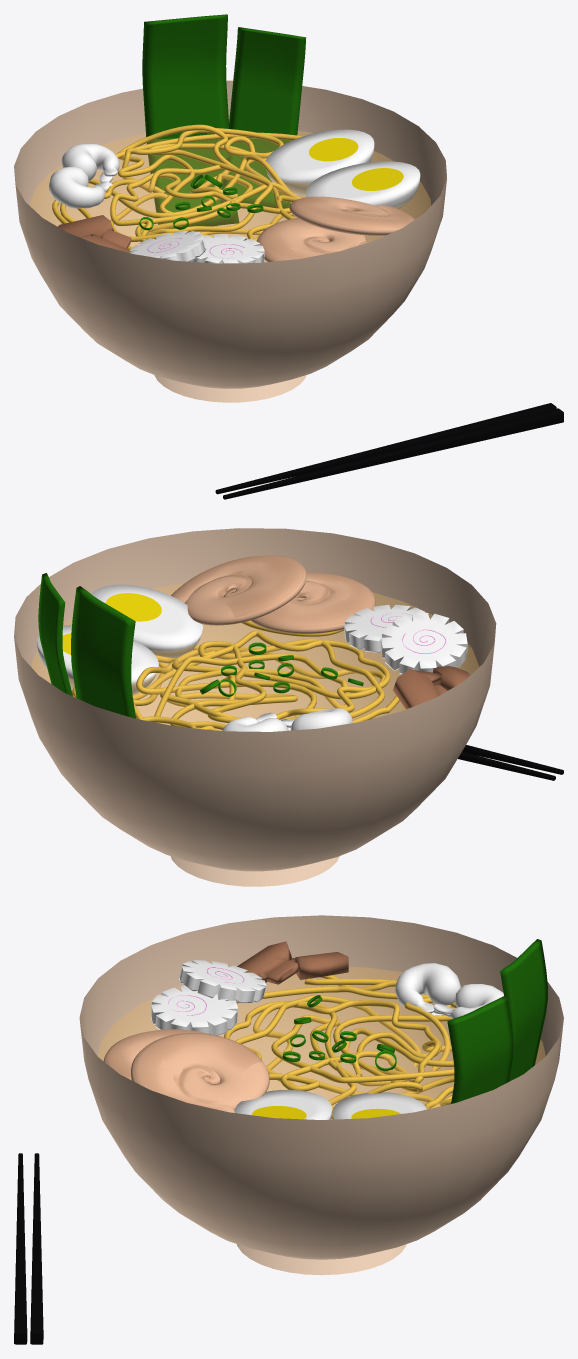
File: ramen.glb
3 views of the same model, one above another, from view 1: azimuth 30°, elevation 25°; view 2: azimuth 150°, elevation 25°; view 3: azimuth 270°, elevation 25° (orthographic). The views are drawn at different scales.
Visible parts, largest first — view 1: Sphere, BezierCurve.002, Plane, Sphere.001, Plane.001, Cylinder, Sphere.002, Char Siu, Sphere.004, Char Siu.001, Cylinder.003, Circle (+8 smaller); view 2: Sphere, BezierCurve.002, Sphere.001, Char Siu, Plane, Char Siu.001, Cylinder.002, Sphere.004, Plane.001, Circle, Cylinder.001, Sphere.002 (+7 smaller); view 3: Sphere, BezierCurve.002, Sphere.001, Char Siu, Plane.001, Plane, Cylinder.001, Cylinder.002, Circle, Shrimp.001, Cylinder.003, Cylinder (+7 smaller).
Boxes of the visible parts, x1=… form: Sphere: x1=14, y1=80, x2=446, y2=388; BezierCurve.002: x1=52, y1=124, x2=302, y2=249; Plane: x1=142, y1=14, x2=239, y2=228; Sphere.001: x1=29, y1=131, x2=430, y2=261; Plane.001: x1=220, y1=27, x2=306, y2=208; Cylinder: x1=223, y1=408, x2=563, y2=499; Sphere.002: x1=265, y1=129, x2=374, y2=195; Char Siu: x1=289, y1=196, x2=414, y2=235; Sphere.004: x1=306, y1=161, x2=420, y2=209; Char Siu.001: x1=256, y1=218, x2=368, y2=261; Cylinder.003: x1=215, y1=403, x2=556, y2=494; Circle: x1=154, y1=375, x2=306, y2=402; Sphere: x1=14, y1=528, x2=496, y2=871; BezierCurve.002: x1=72, y1=620, x2=405, y2=730; Sphere.001: x1=32, y1=583, x2=478, y2=730; Char Siu: x1=171, y1=555, x2=306, y2=625; Plane: x1=71, y1=586, x2=135, y2=718; Char Siu.001: x1=250, y1=572, x2=375, y2=633; Cylinder.002: x1=381, y1=613, x2=467, y2=674; Sphere.004: x1=91, y1=584, x2=203, y2=658; Plane.001: x1=38, y1=573, x2=72, y2=696; Circle: x1=170, y1=856, x2=339, y2=886; Cylinder.001: x1=344, y1=604, x2=429, y2=652; Sphere.002: x1=37, y1=625, x2=158, y2=694; Sphere: x1=79, y1=915, x2=563, y2=1259; BezierCurve.002: x1=224, y1=975, x2=456, y2=1119; Sphere.001: x1=98, y1=967, x2=545, y2=1119; Char Siu: x1=131, y1=1033, x2=269, y2=1112; Plane.001: x1=447, y1=996, x2=513, y2=1103; Plane: x1=500, y1=939, x2=547, y2=1081; Cylinder.001: x1=150, y1=986, x2=237, y2=1035; Cylinder.002: x1=179, y1=960, x2=266, y2=1003; Circle: x1=236, y1=1244, x2=406, y2=1275; Shrimp.001: x1=395, y1=963, x2=460, y2=1015; Cylinder.003: x1=30, y1=1153, x2=43, y2=1344; Cylinder: x1=14, y1=1153, x2=27, y2=1344.
Size of the model in its own units: 1.23 by 0.8523 by 1.37.
Materials: 13 (1 with a texture image).
